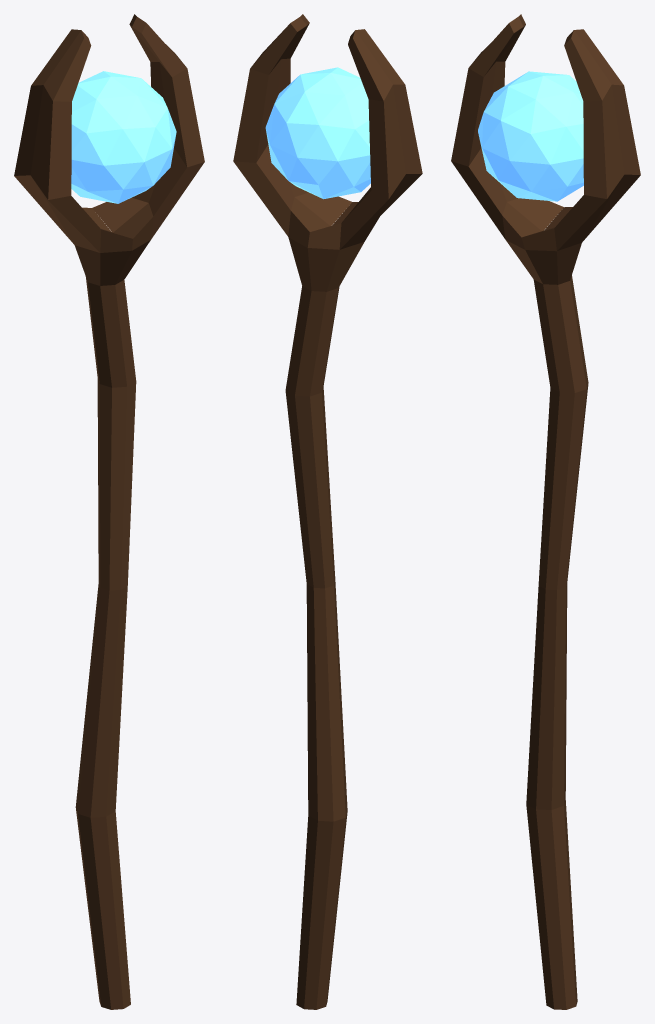
File: Staff.glb
The picture shows the model from 3 angles, left to right: view 1: azimuth 30°, elevation 25°; view 2: azimuth 150°, elevation 25°; view 3: azimuth 330°, elevation 25°; orthographic projection.
Visible parts, largest first — view 1: Staff; view 2: Staff; view 3: Staff.
Part boxes in pixels (x1=…): Staff: x1=14, y1=14, x2=204, y2=1009; Staff: x1=233, y1=14, x2=422, y2=1009; Staff: x1=451, y1=14, x2=640, y2=1009.
Bounding box in the file's own units: 0.2676 × 1.6 × 0.1977.
